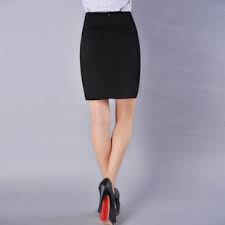F_tailored skirt: (76, 10, 147, 111)
